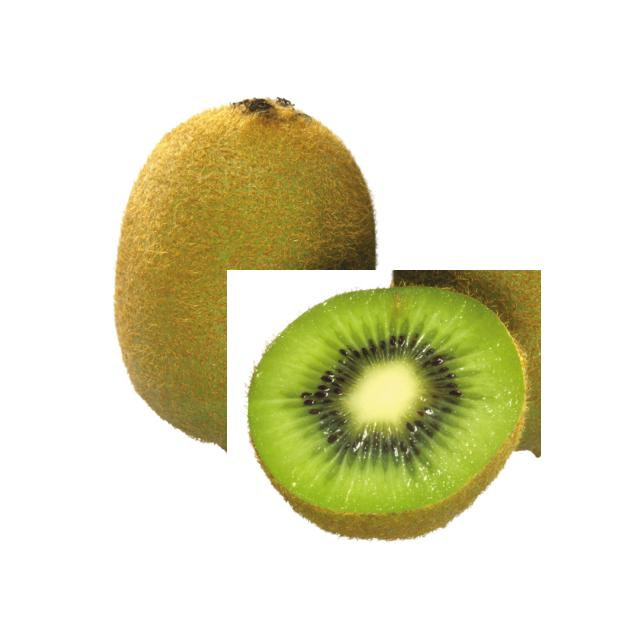Qiwi: (126, 96, 386, 468), (228, 270, 542, 545)
